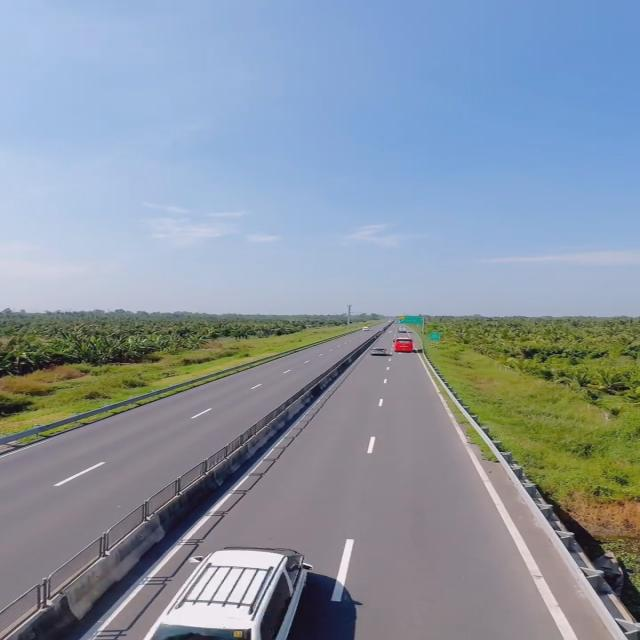car: (140, 542, 313, 638)
